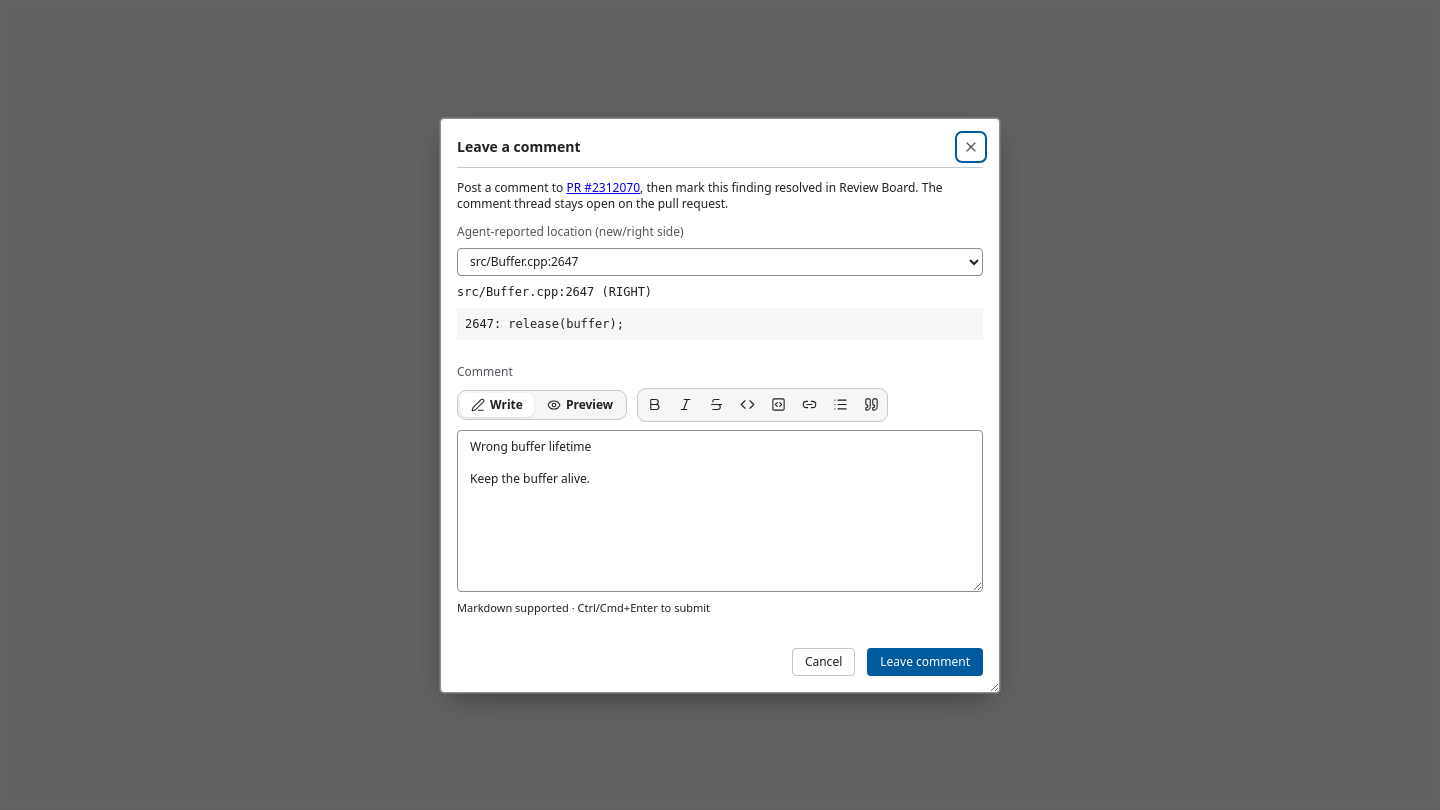
it: FindingCommentDialog › never resolves or reposts after a successful post against a now-stale finding
Click the button "Leave comment": point(925, 662) [867,648,983,676]
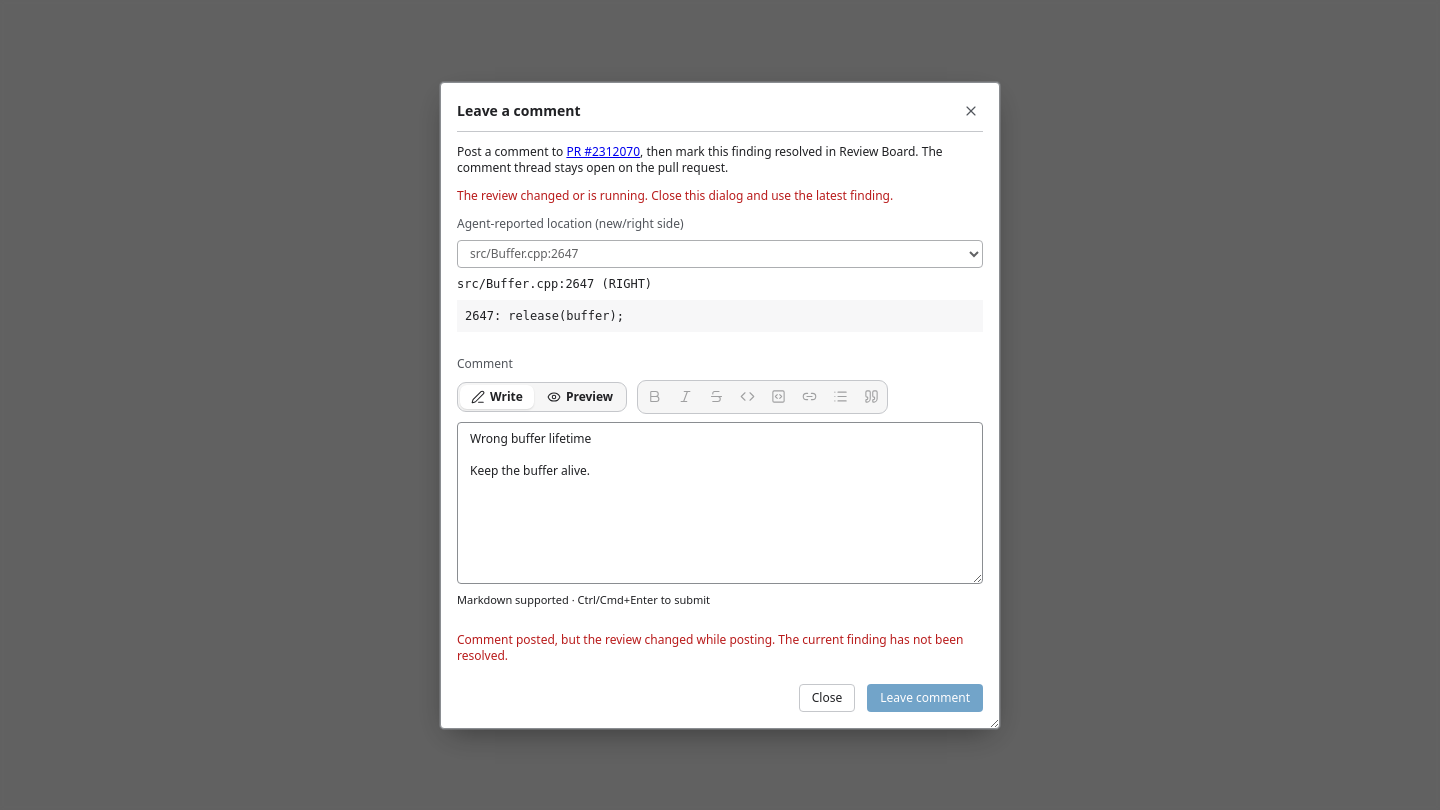
Now the text "Comment posted, but the review changed" is shown, box [457,630,963,664]
Now the button "Leave comment" is disabled, box [867,684,983,712]
